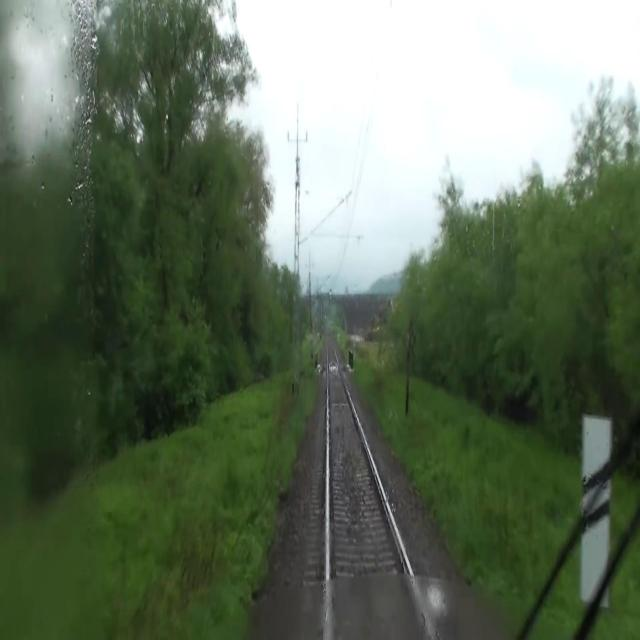rail-track: (329, 349, 431, 639)
